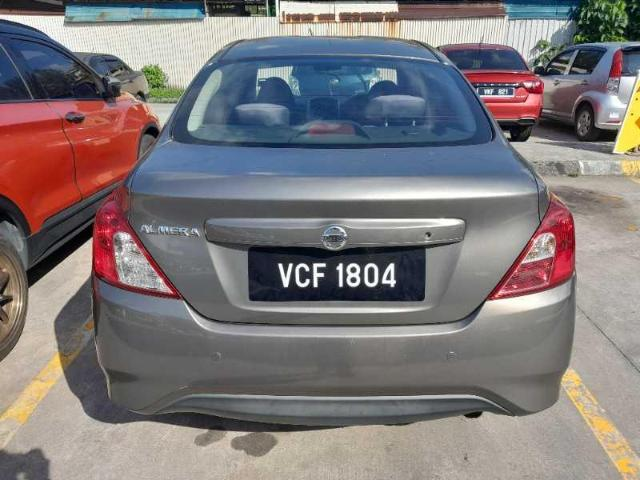License_Plate: (247, 247, 427, 304), (480, 88, 513, 97)
car: (91, 35, 578, 427), (436, 43, 545, 143)
